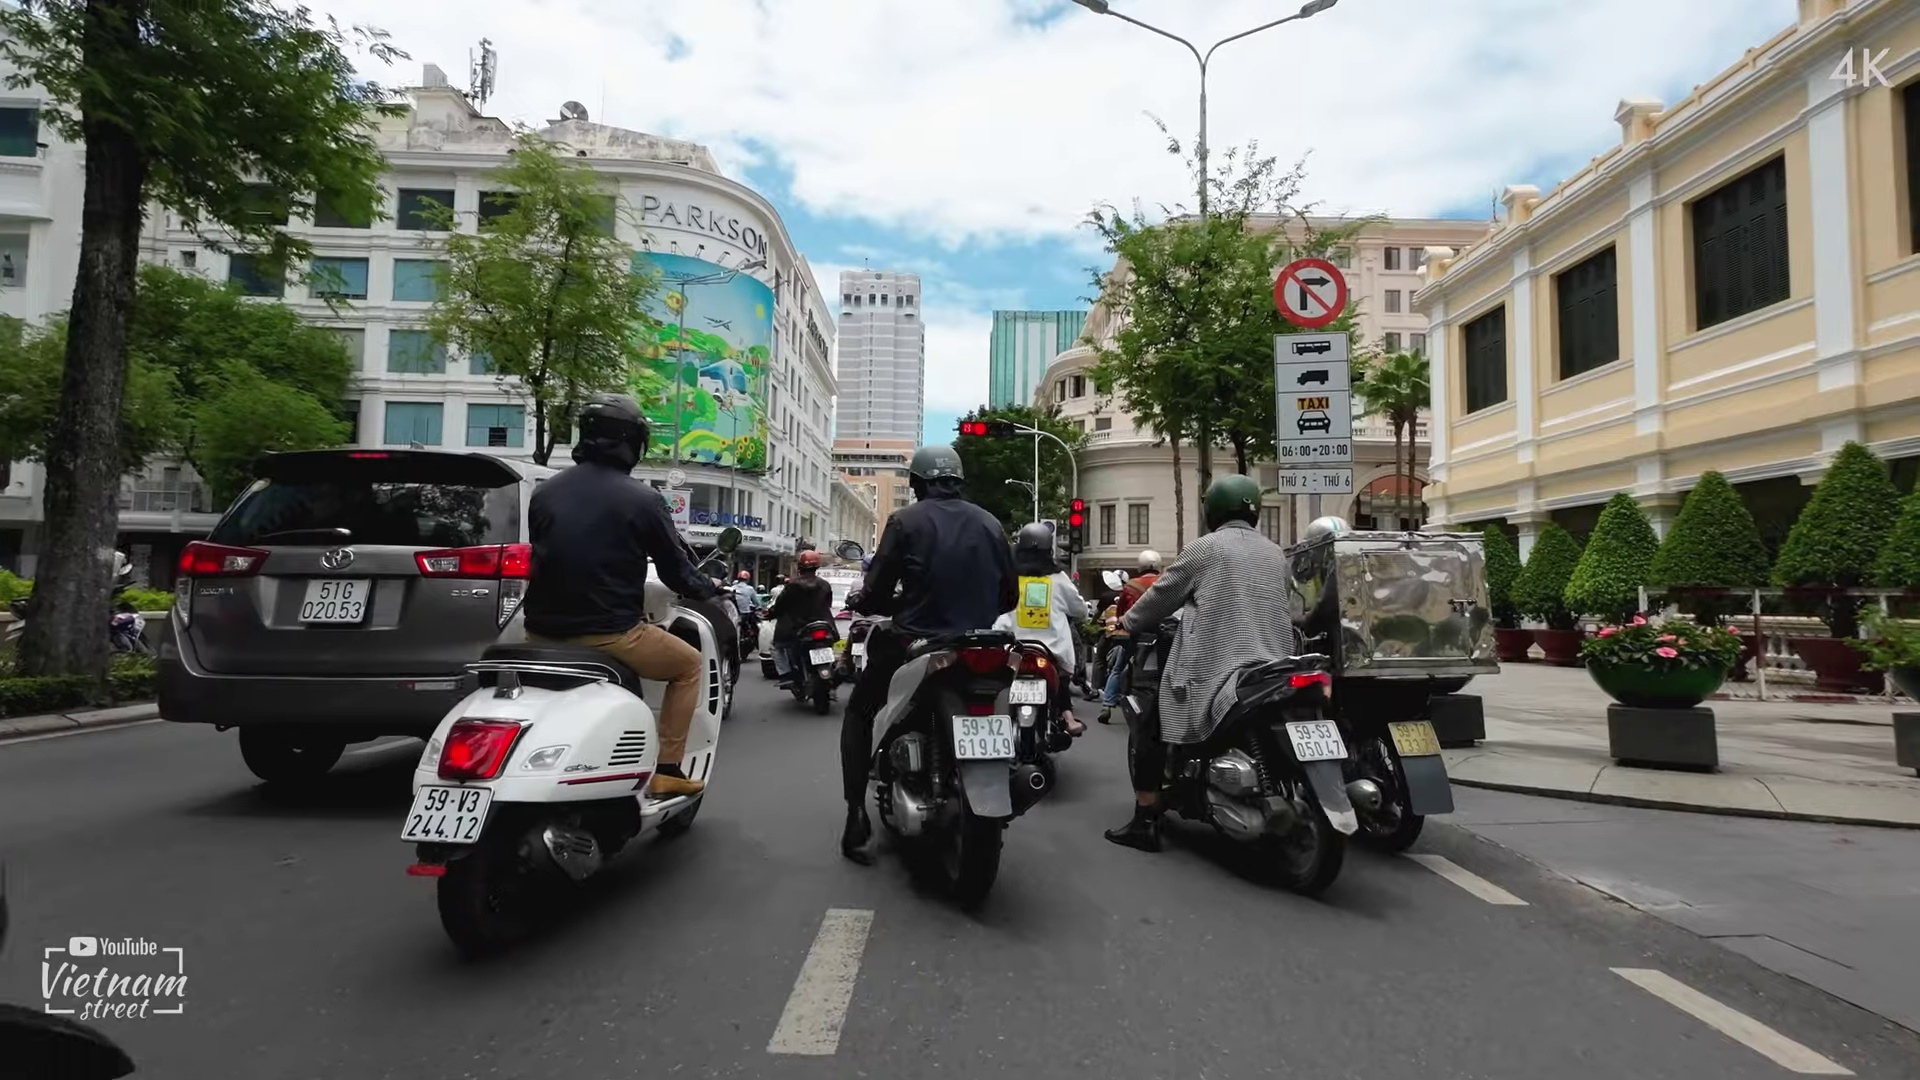cam_re_phai: (1269, 255, 1352, 334)
